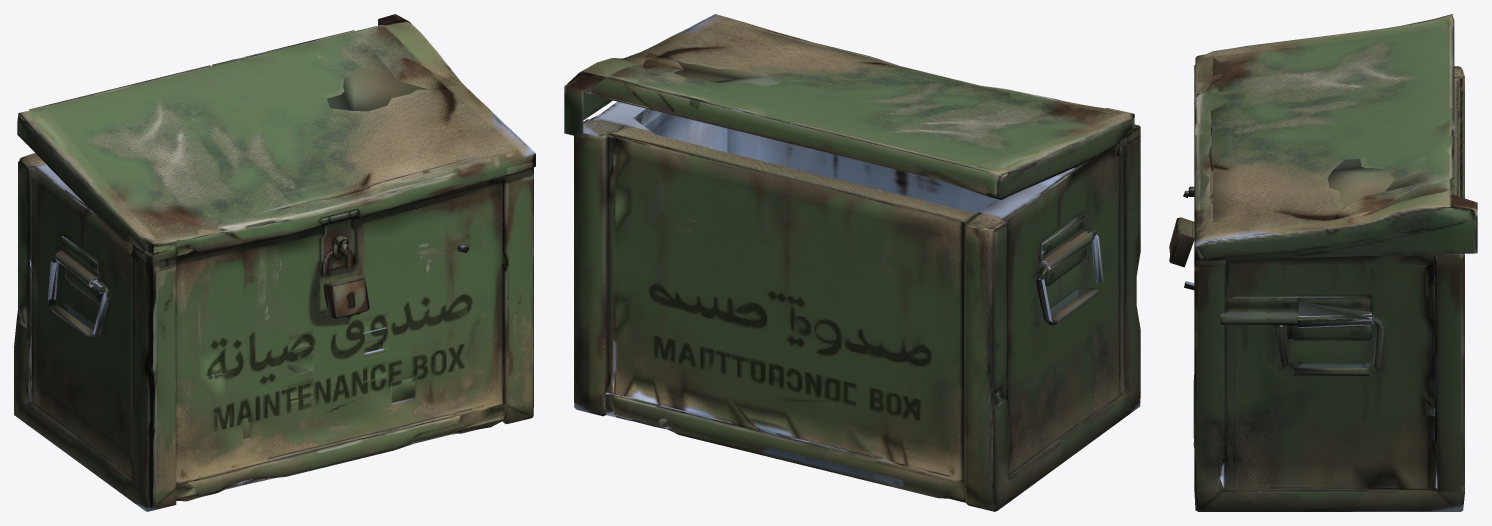
Rendered from Meshy_AI_Locked_Maintenance_Bo_0312134540_texture.fbx.
The picture shows the model from 3 angles, left to right: view 1: azimuth 30°, elevation 25°; view 2: azimuth 150°, elevation 25°; view 3: azimuth 270°, elevation 25°; orthographic projection. The views are drawn at different scales.
Visible parts, largest first — view 1: Mesh_0; view 2: Mesh_0; view 3: Mesh_0.
Boxes of the visible parts, x1,y1,x2,y2 form: Mesh_0: (14, 14, 535, 511); Mesh_0: (564, 14, 1140, 511); Mesh_0: (1169, 14, 1477, 511).
Bounding box in the file's own units: 191 × 138 × 124.
Materials: 1 (1 with a texture image).
